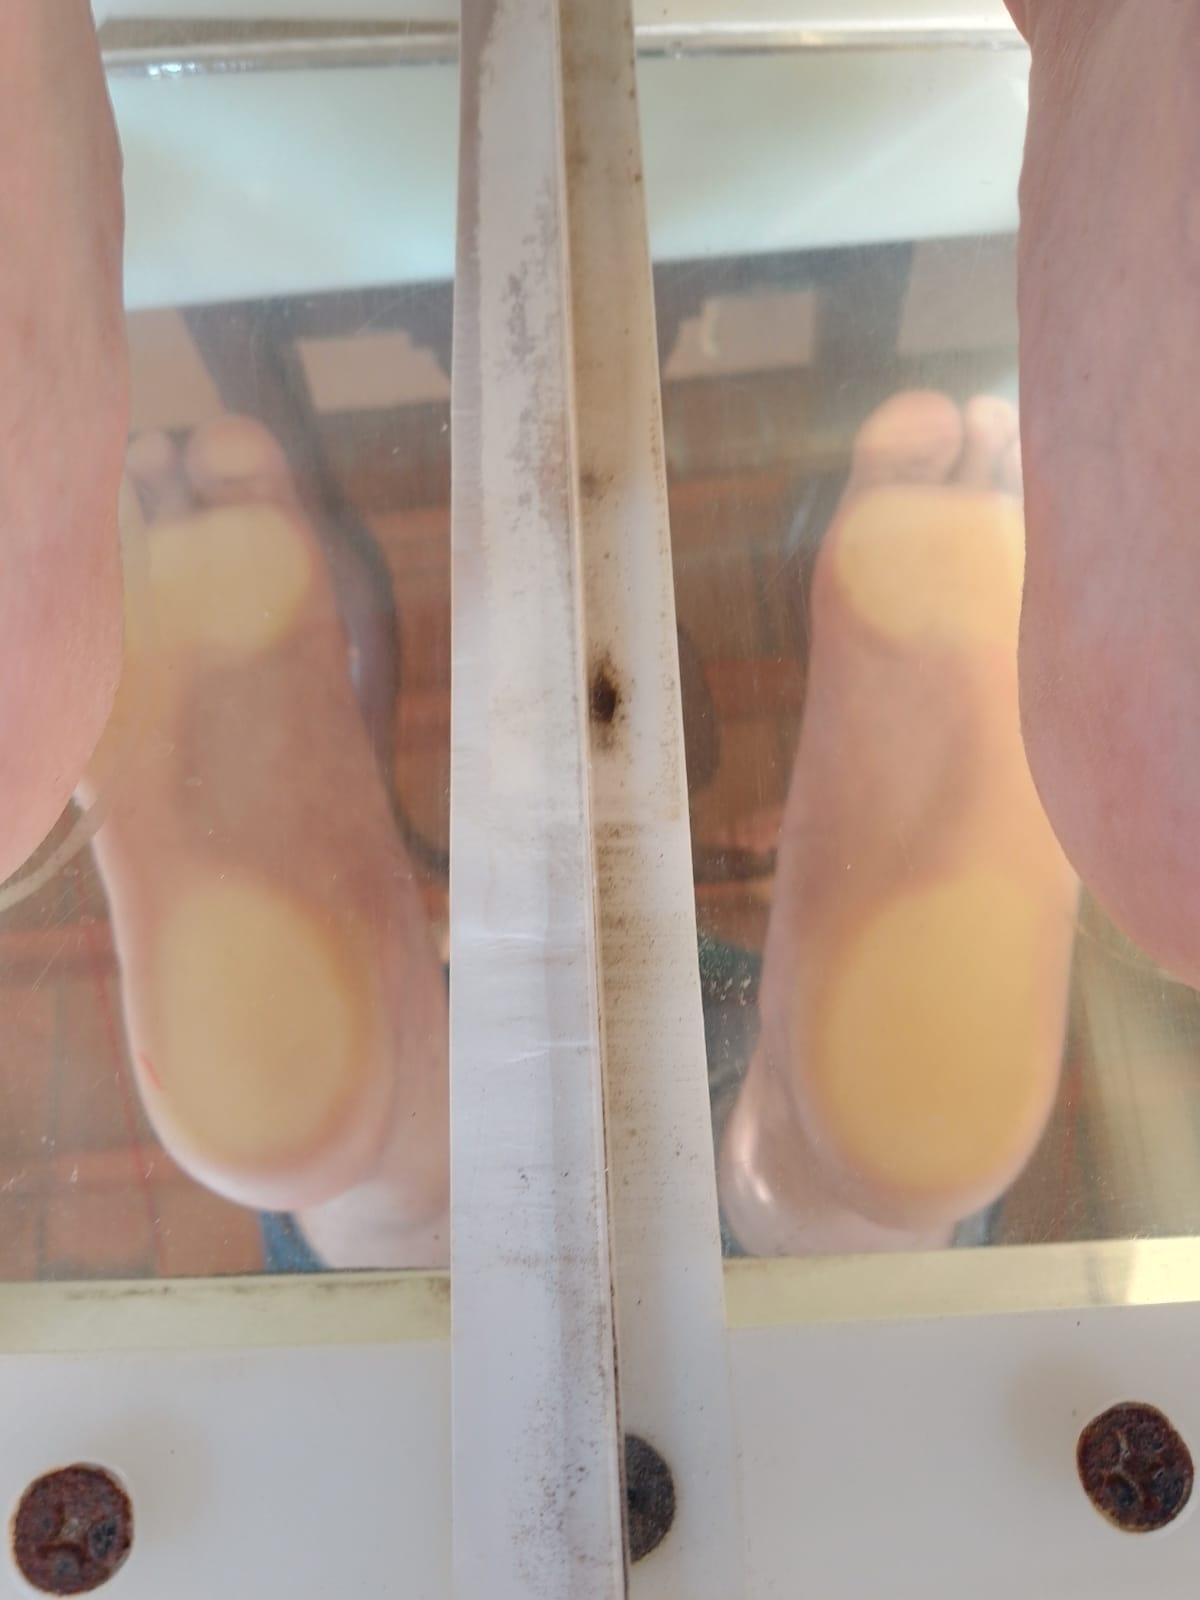9: (755, 330, 1105, 1245)
Present: (55, 401, 455, 1220)
